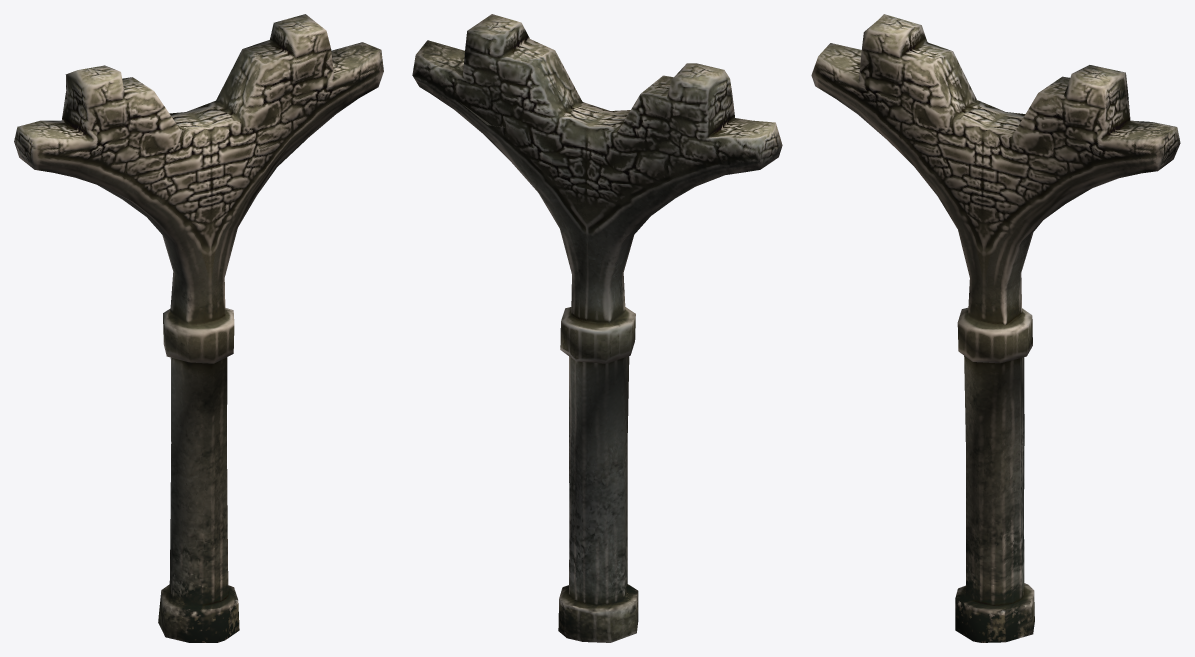
Rendered from ZAMOK4.fbx.
3 renders of one model, left to right at view 1: azimuth 30°, elevation 25°; view 2: azimuth 150°, elevation 25°; view 3: azimuth 330°, elevation 25°, orthographic.
Visible parts, largest first — view 1: Lp+.004; view 2: Lp+.004; view 3: Lp+.004.
Boxes of the visible parts, x1=… form: Lp+.004: x1=14, y1=14, x2=383, y2=642; Lp+.004: x1=412, y1=14, x2=782, y2=642; Lp+.004: x1=811, y1=14, x2=1180, y2=642.
Bounding box in the file's own units: 1344 × 2130 × 268.
